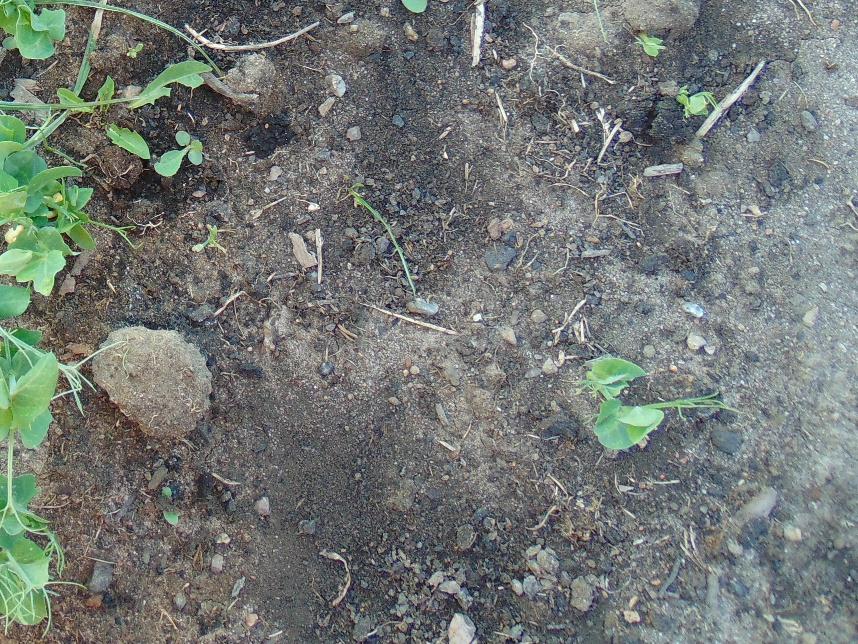crop: (1, 92, 100, 323), (1, 313, 100, 544), (1, 472, 89, 644), (572, 355, 725, 450), (1, 1, 64, 62), (676, 82, 715, 114), (635, 33, 666, 56)
weed: (61, 60, 213, 158), (148, 132, 204, 174)
